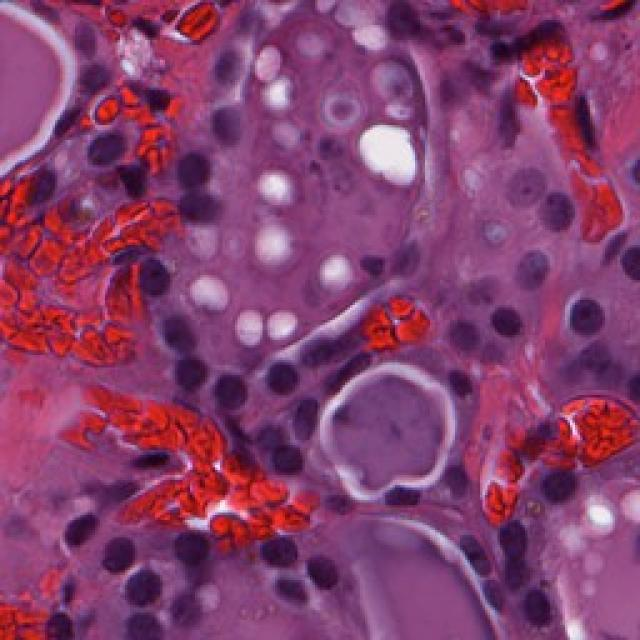normal: (95, 551, 183, 618), (79, 522, 149, 600), (120, 239, 198, 305), (166, 133, 236, 206), (252, 348, 318, 416), (562, 281, 622, 352), (143, 301, 216, 357), (472, 291, 534, 351), (164, 188, 233, 241), (210, 354, 259, 426), (166, 508, 215, 577), (172, 342, 218, 408)
